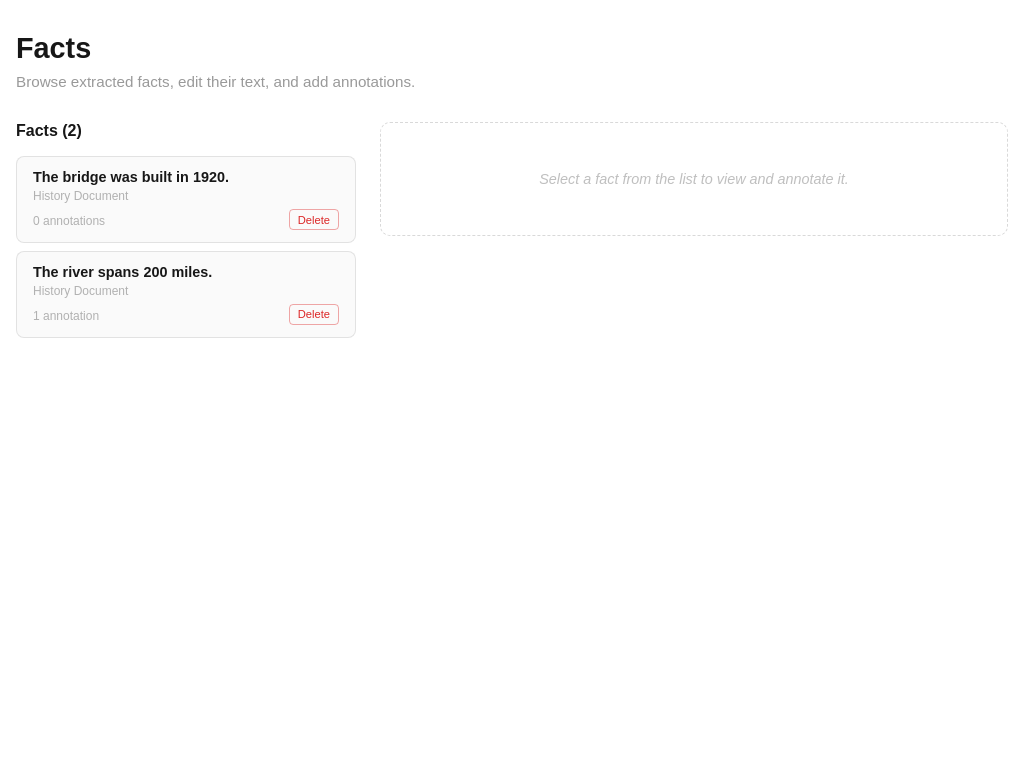
it: FactsPage › allows selecting multiple facts sequentially without page reload
The width and height of the screenshot is (1024, 768).
Expected: the text "The bridge was built in 1920." is shown, [33,169,229,185]
Click the button with aria-label "select fact: the bridge was built in 1920" at (131, 177), box [16,156,356,243]
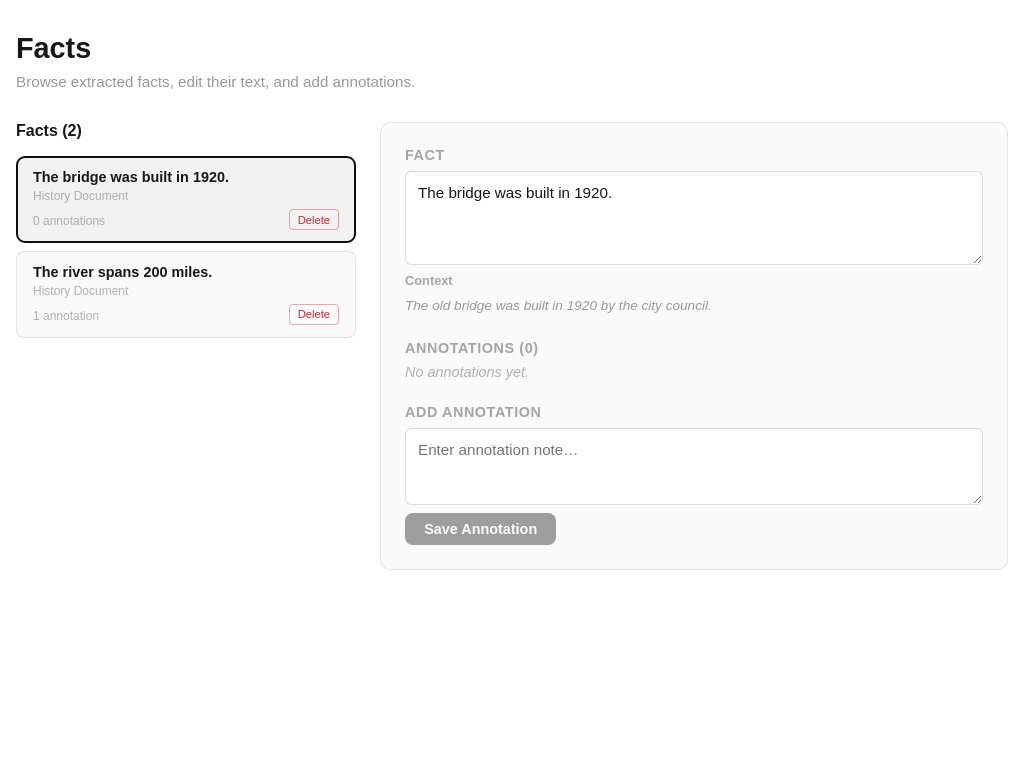
Result: the text box named "edit fact text" holds "The bridge was built in 1920." at [405,171,983,265]
Click the button with aria-label "select fact: the river spans 200 miles" at (123, 272), box [16,251,356,338]
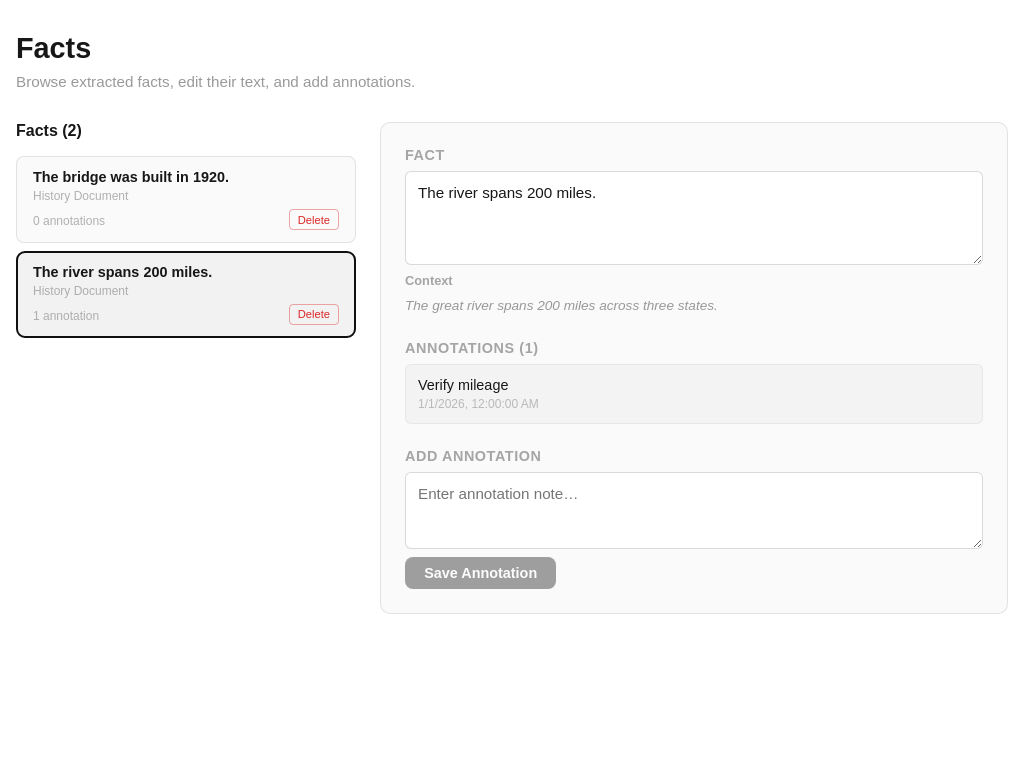
Result: the text box named "edit fact text" holds "The river spans 200 miles." at [405,171,983,265]
Result: the text "Verify mileage" is shown at [418,377,508,393]
